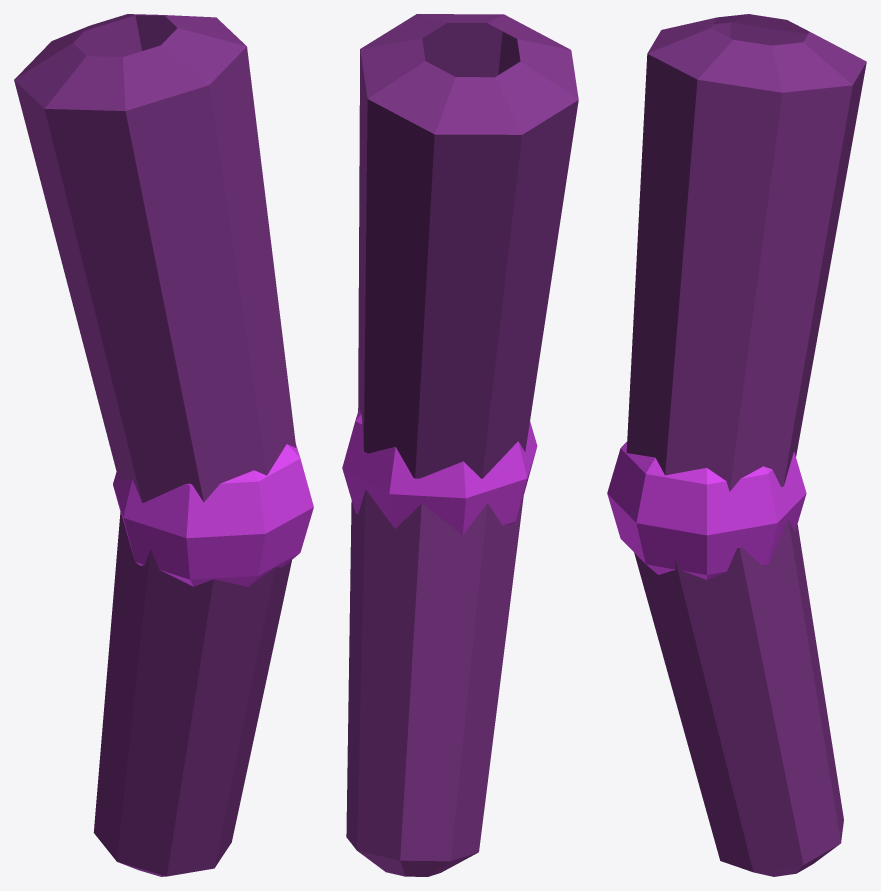
Rendered from imp_shaman_leg_R.obj.
The picture shows the model from 3 angles, left to right: view 1: azimuth 30°, elevation 25°; view 2: azimuth 150°, elevation 25°; view 3: azimuth 270°, elevation 25°; orthographic projection. The views are drawn at different scales.
Visible parts, largest first — view 1: leg_upper_R, leg_lower_R, leg_joint_R; view 2: leg_upper_R, leg_lower_R, leg_joint_R; view 3: leg_upper_R, leg_lower_R, leg_joint_R.
Part boxes in pixels (<box>): leg_upper_R: <box>14,14,296,502</box>; leg_lower_R: <box>93,511,291,876</box>; leg_joint_R: <box>113,443,313,586</box>; leg_upper_R: <box>358,14,578,478</box>; leg_lower_R: <box>346,489,523,876</box>; leg_joint_R: <box>342,408,537,535</box>; leg_upper_R: <box>626,14,866,491</box>; leg_lower_R: <box>634,519,843,876</box>; leg_joint_R: <box>607,441,806,579</box>.
Size of the model in its own units: 0.185 by 0.6175 by 0.1765.
